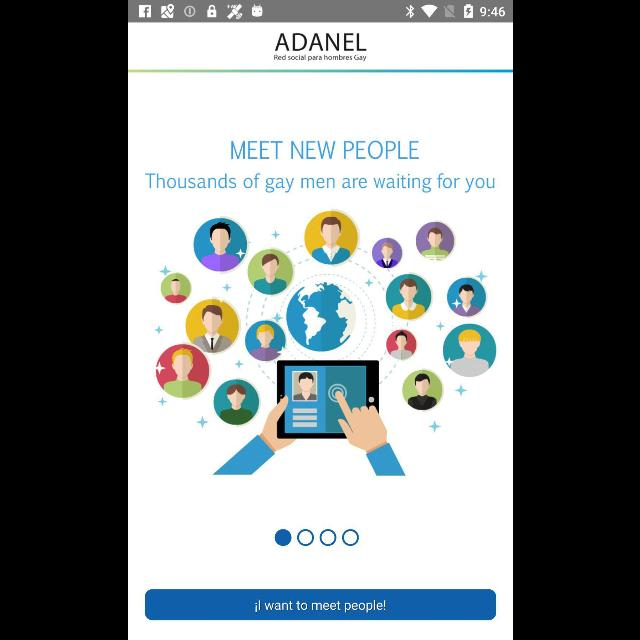image: (152, 208, 496, 476), (273, 34, 367, 62)
pageindicator: (274, 530, 358, 546)
text: (144, 172, 494, 194), (230, 140, 418, 160)
textbutton: (144, 590, 496, 620)
uppertaskbar: (128, 1, 512, 23)
